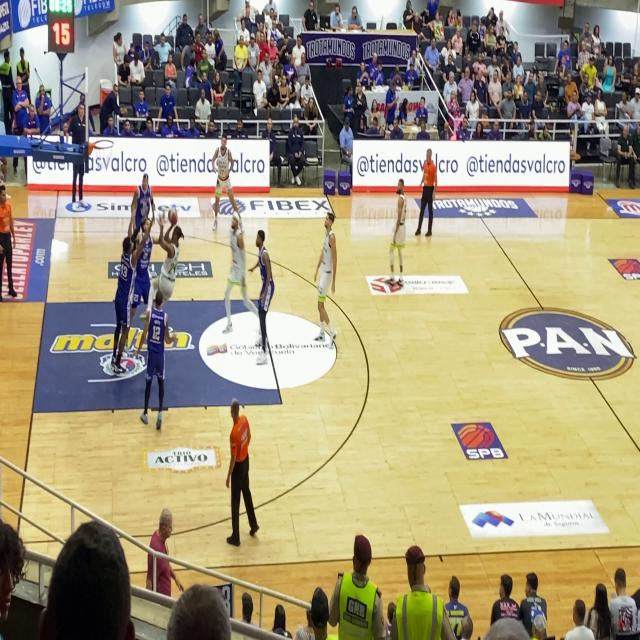Ball: (168, 202, 180, 228)
referee: (220, 394, 264, 555), (418, 142, 442, 253), (0, 169, 17, 307)
team1: (219, 202, 257, 348), (308, 203, 342, 357), (388, 169, 411, 293), (160, 202, 186, 310), (213, 136, 237, 214)
team2: (246, 217, 285, 366), (143, 284, 175, 430), (107, 224, 134, 375), (131, 157, 157, 235), (134, 220, 155, 306)
ubasket: (91, 136, 116, 155)
